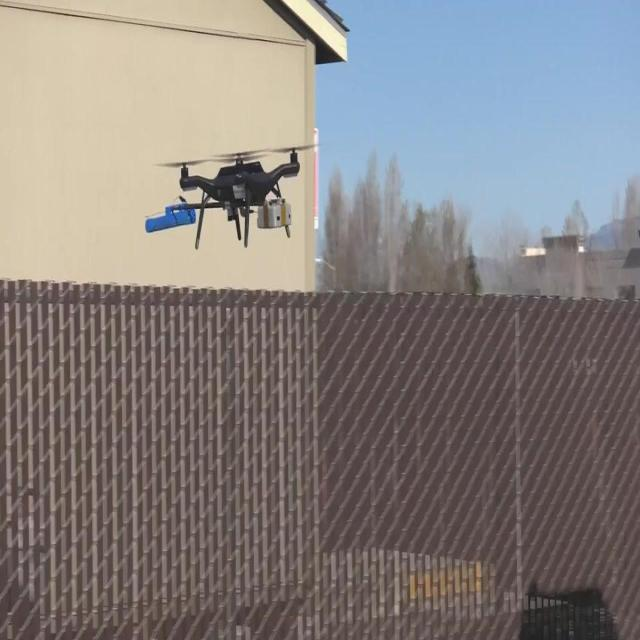drone: (152, 144, 300, 250)
